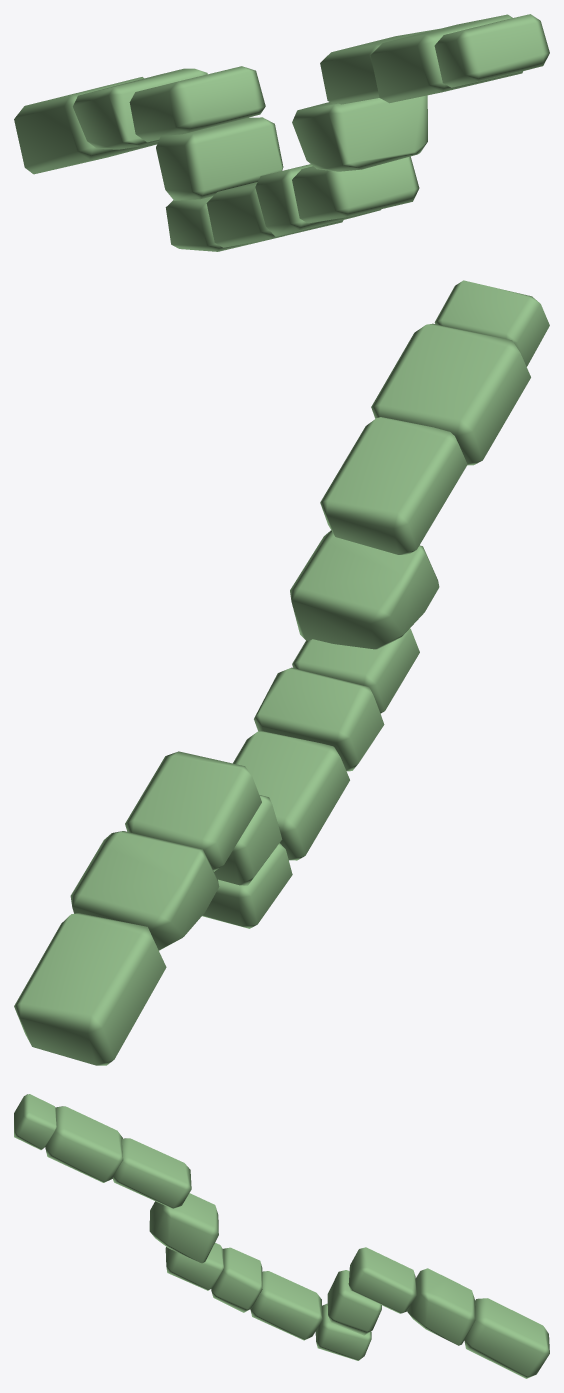
File: Wall_Battlements_02_D_Lod0.fbx
3 views of the same model, one above another, from view 1: azimuth 30°, elevation 25°; view 2: azimuth 150°, elevation 25°; view 3: azimuth 270°, elevation 25° (orthographic). The views are drawn at different scales.
Parts seen in each view (by area): view 1: Wall_Battlements_02_D_Lod0; view 2: Wall_Battlements_02_D_Lod0; view 3: Wall_Battlements_02_D_Lod0.
Boxes of the visible parts, x1=… form: Wall_Battlements_02_D_Lod0: x1=14, y1=14, x2=549, y2=251; Wall_Battlements_02_D_Lod0: x1=14, y1=280, x2=549, y2=1065; Wall_Battlements_02_D_Lod0: x1=14, y1=1094, x2=549, y2=1378.
Size of the model in its own units: 41.08 by 170 by 310.
